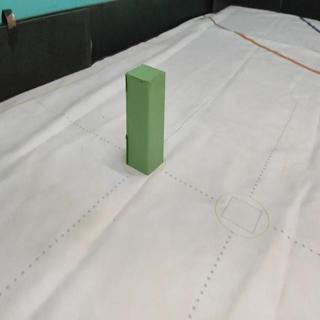greenbox: (125, 65, 166, 174)
